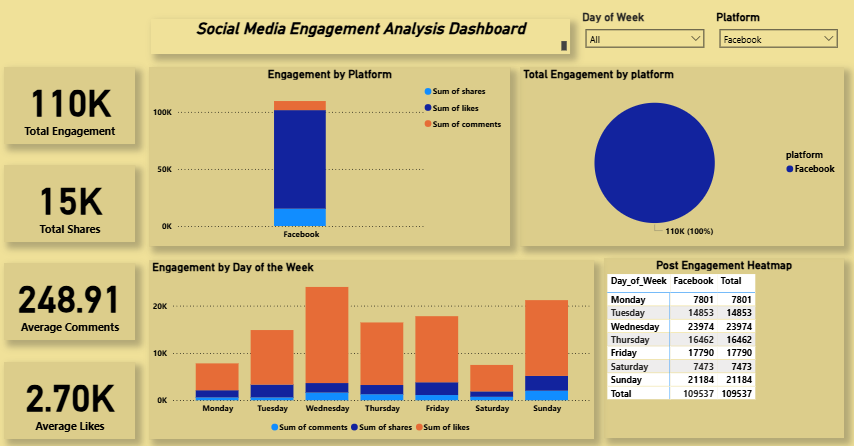

Layout of this report page (visuals, bound fields, positions):
{"tool":"powerbi","page":{"name":"Page 2","canvas":[1280,720],"ordinal":1},"visuals":[{"type":"columnChart","title":"Engagement by Platform","fields":{"Category":["social_media_engagement1.platform"],"Y":["Sum(social_media_engagement1.shares)","Sum(social_media_engagement1.likes)","Sum(social_media_engagement1.comments)"]},"box":[223.5,150.7,540.1,267.5],"z":0},{"type":"card","fields":{"Values":["social_media_engagement1.Average Comments"]},"box":[6.8,444.2,196.4,115.1],"z":1000},{"type":"card","fields":{"Values":["social_media_engagement1.Average Likes"]},"box":[6.8,590.9,196.4,115.1],"z":2000},{"type":"card","fields":{"Values":["social_media_engagement1.Total Shares"]},"box":[6.8,297.4,196.4,115.1],"z":3000},{"type":"slicer","title":"Platform","fields":{"Values":["social_media_engagement1.platform"]},"box":[1066.6,65.7,195.7,65.7],"z":4000},{"type":"slicer","title":"Day of Week","fields":{"Values":["social_media_engagement1.Day_of_Week"]},"box":[866.4,65.7,197.2,65.7],"z":5000},{"type":"card","fields":{"Values":["social_media_engagement1.Total Engagement"]},"box":[6.8,150.7,196.4,115.1],"z":6000},{"type":"pieChart","fields":{"Category":["social_media_engagement1.platform"],"Y":["social_media_engagement1.Total Engagement"]},"box":[778.8,150.7,484.2,267.5],"z":7000},{"type":"columnChart","title":"Engagement by Day of the Week","fields":{"Category":["social_media_engagement1.Day_of_Week"],"Y":["Sum(social_media_engagement1.comments)","Sum(social_media_engagement1.shares)","Sum(social_media_engagement1.likes)"]},"box":[223.5,438.5,665.4,267.5],"z":8000},{"type":"pivotTable","title":"Post Engagement Heatmap","fields":{"Columns":["social_media_engagement1.platform"],"Values":["social_media_engagement1.Total Engagement"],"Rows":["social_media_engagement1.Day_of_Week"]},"box":[904.1,436.8,358.9,269.2],"z":9000},{"type":"textbox","title":"Social Media Engagement Analysis Dashboard","box":[227.1,79.2,625.9,52.3],"z":10000}]}

Visuals, with their boxes on the page's 1280x720 design canvas (x1, y1, x2, y2). These are canvas units, not pixel positions in the 854x446 screenshot, which may show the page scaled, cropped or inside an application window:
"Engagement by Platform" columnChart: bbox=[224, 151, 764, 418]
card - social_media_engagement1.Average Comments: bbox=[7, 444, 203, 559]
card - social_media_engagement1.Average Likes: bbox=[7, 591, 203, 706]
card - social_media_engagement1.Total Shares: bbox=[7, 297, 203, 412]
"Platform" slicer: bbox=[1067, 66, 1262, 131]
"Day of Week" slicer: bbox=[866, 66, 1064, 131]
card - social_media_engagement1.Total Engagement: bbox=[7, 151, 203, 266]
pieChart - social_media_engagement1.platform x social_media_engagement1.Total Engagement: bbox=[779, 151, 1263, 418]
"Engagement by Day of the Week" columnChart: bbox=[224, 438, 889, 706]
"Post Engagement Heatmap" pivotTable: bbox=[904, 437, 1263, 706]
"Social Media Engagement Analysis Dashboard" textbox: bbox=[227, 79, 853, 132]
